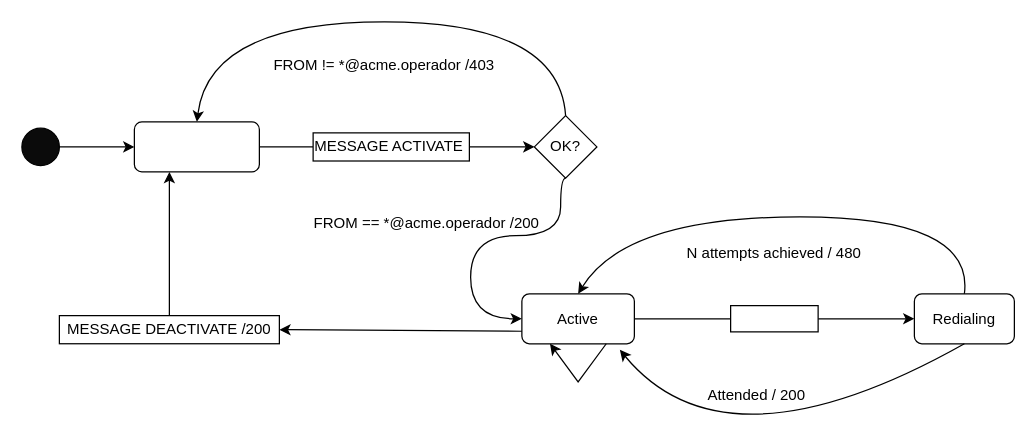
Image size: 1036x436. Some labels were removed from this diagram. The shapes that lost their labels are listed below. From the top down, each one's box as (x1, y1, x2, y2) in pixels, then its label:
(133, 121, 259, 172): Inactive
(729, 304, 818, 332): INVITE
